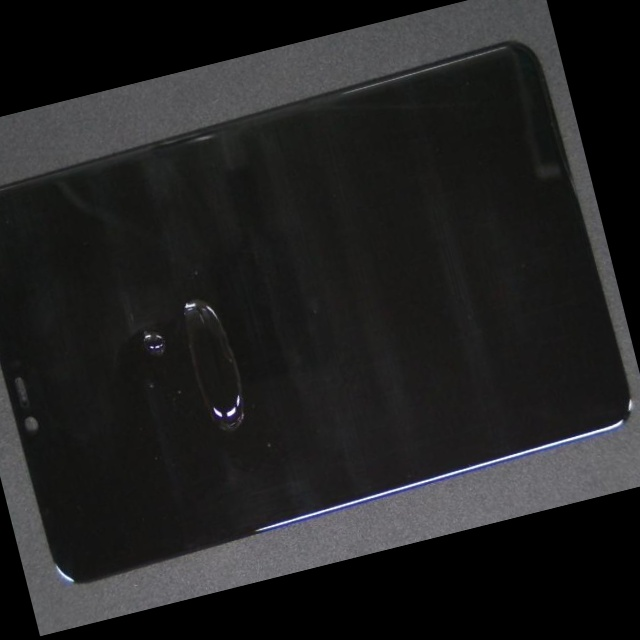oil: (85, 207, 380, 496)
